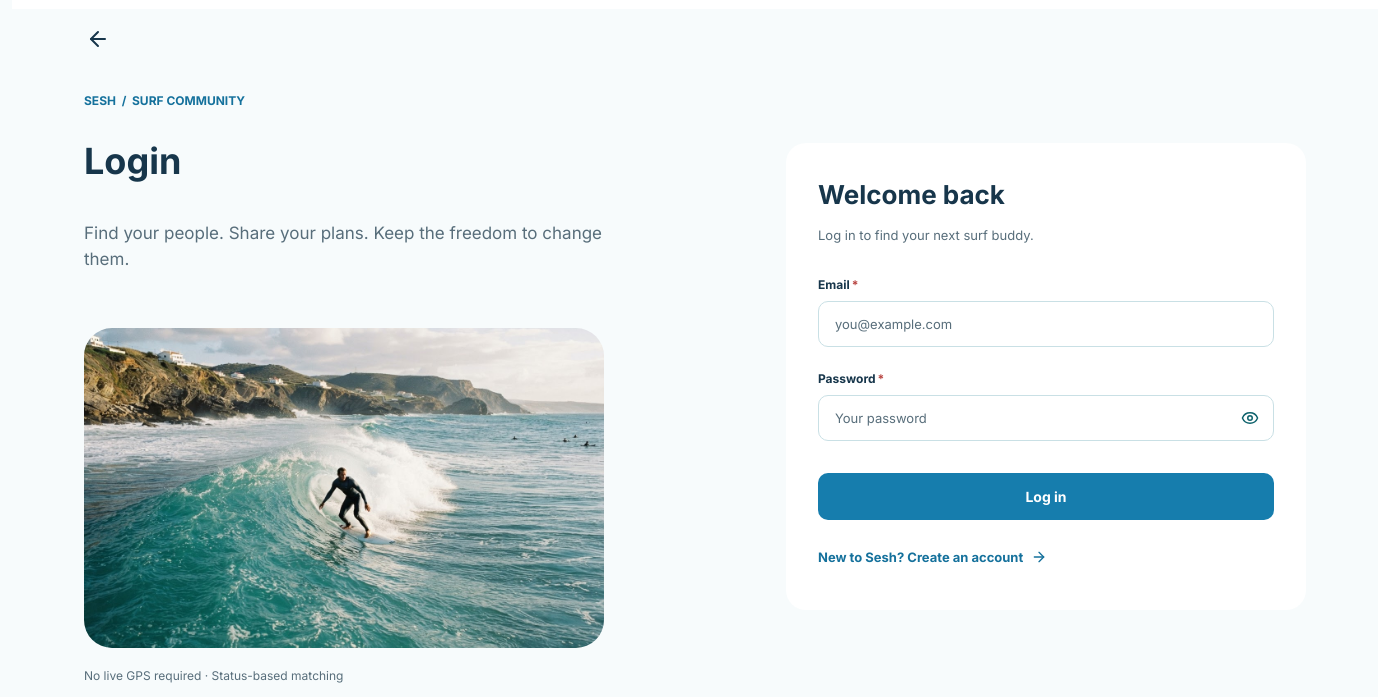
it: Login page › returns to the originally requested page after login
Expected: the heading "Welcome back" is shown, [818,179,1005,210]
Type "surfer@example.com" into the field labelled "Email*". click: (1046, 324)
box: [818,301,1274,347]
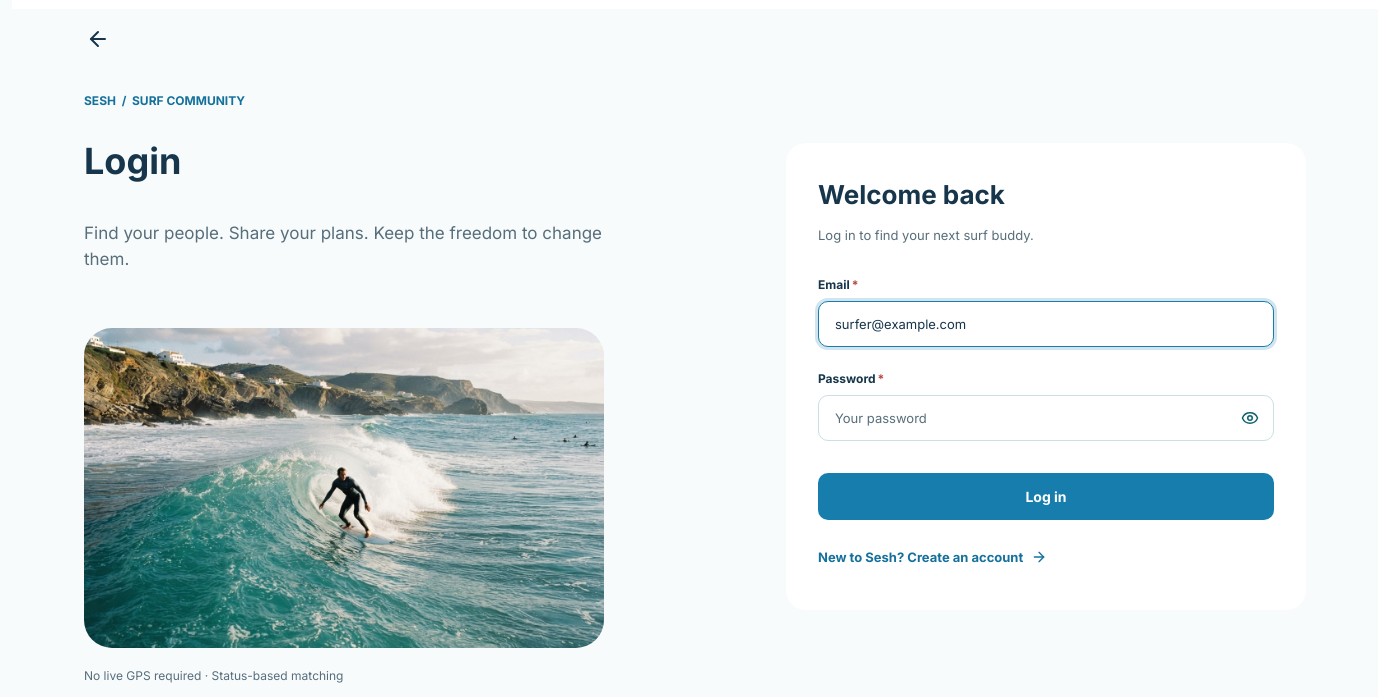
Type "correct horse battery" into the password field labelled "Password*". click: (1046, 418)
box: [818,395,1274,441]
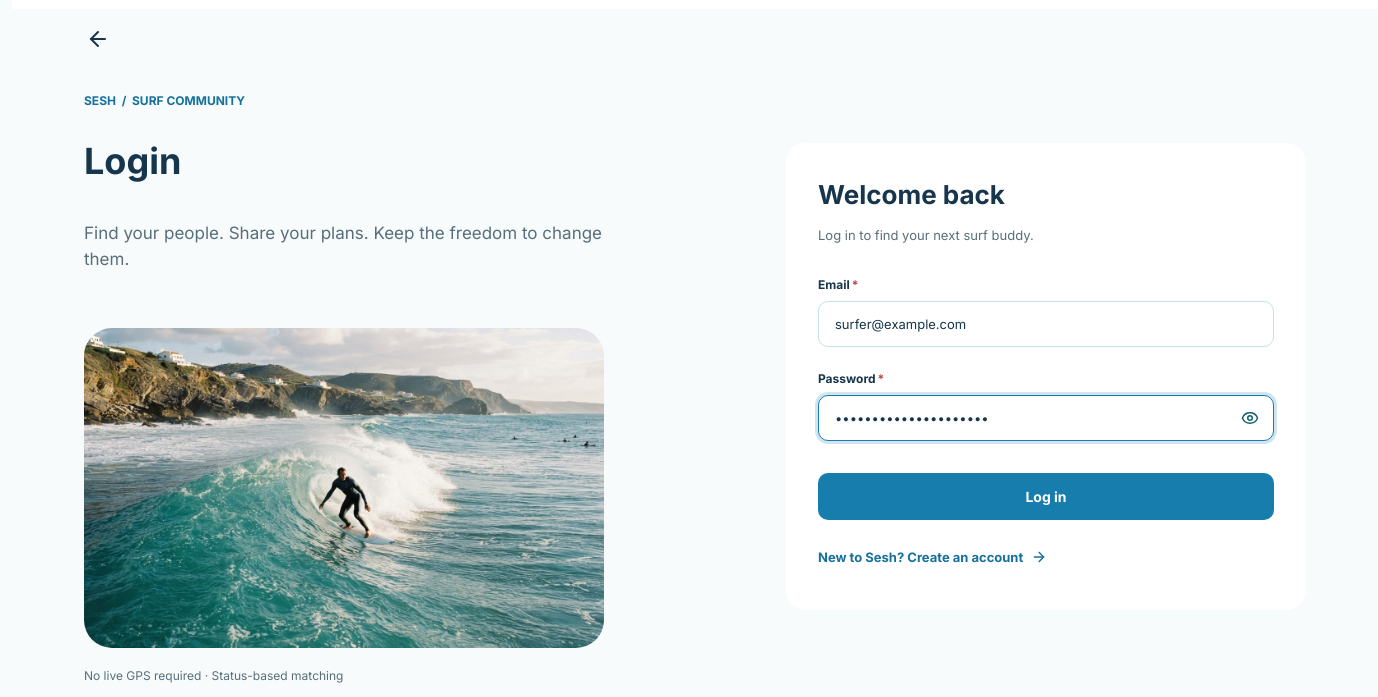
Click the button "Log in". click: (1046, 497)
box: [818,473,1274,520]
(page scrolled)
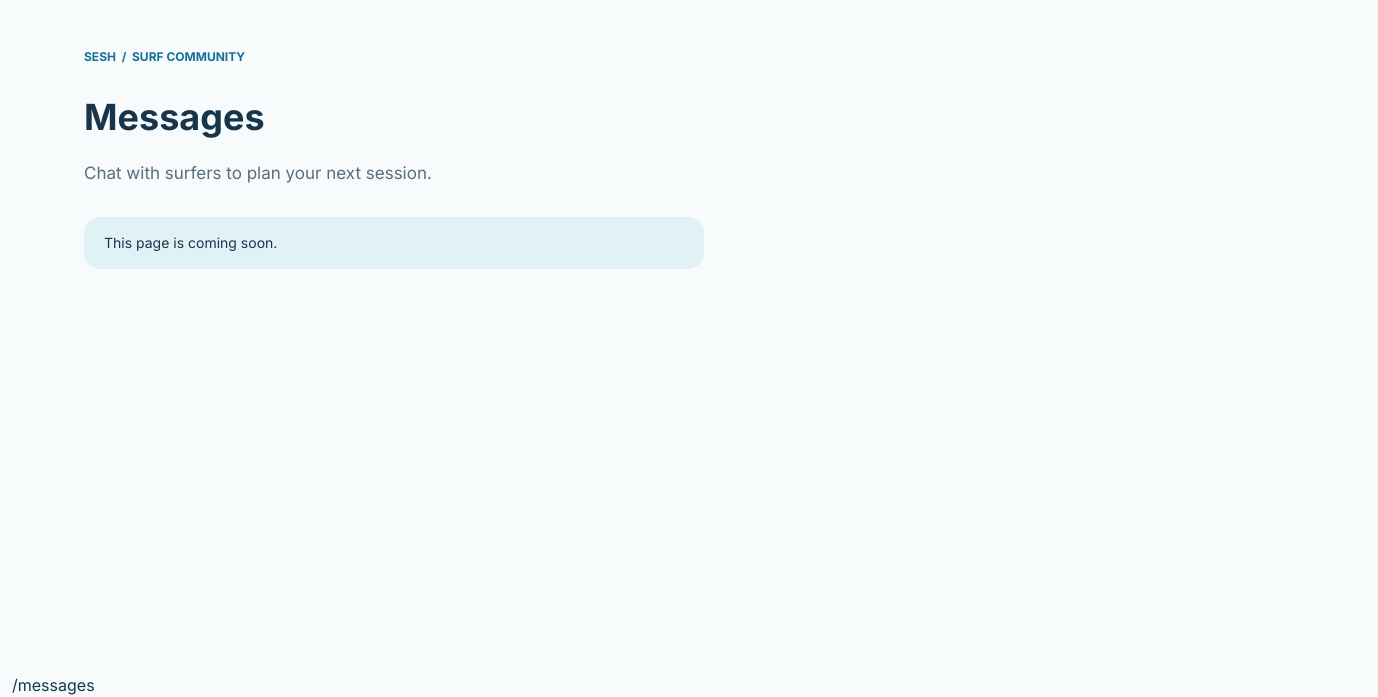
Expected: the heading "Messages" is shown, [84,95,265,139]
Expected: the text with test id "location" reads "/messages", [12,675,95,695]
